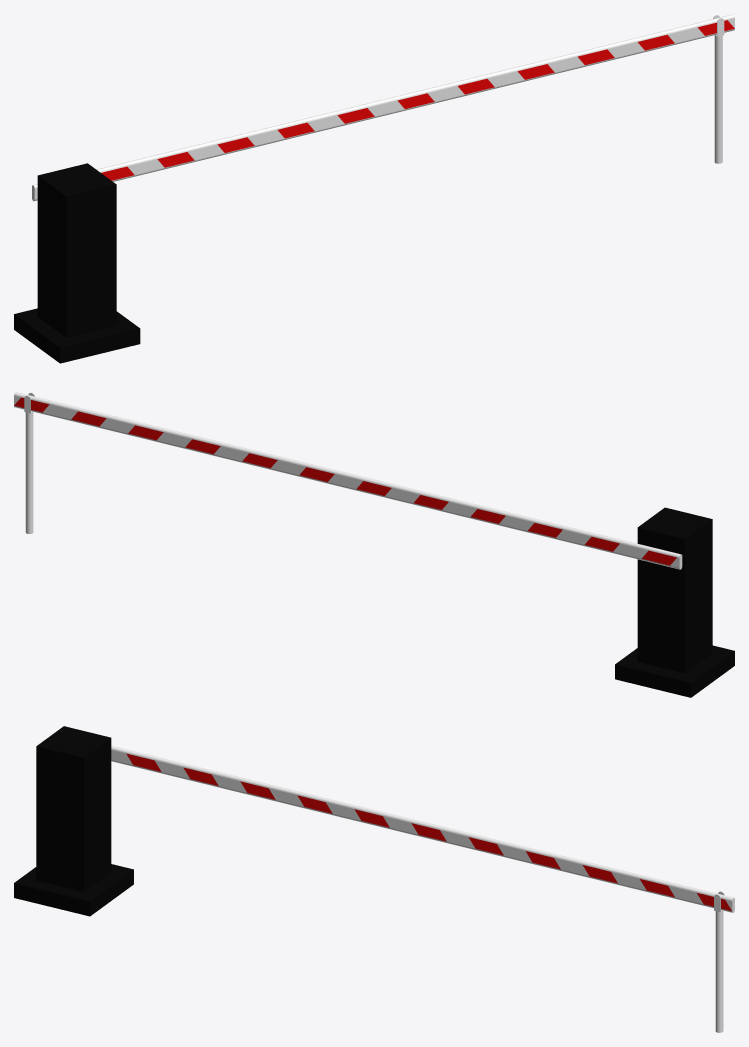
Rendered from BoomGate.gltf.
3 views of the same model, one above another, from view 1: azimuth 30°, elevation 25°; view 2: azimuth 150°, elevation 25°; view 3: azimuth 330°, elevation 25° (orthographic). The views are drawn at different scales.
Visible parts, largest first — view 1: node1; view 2: node1; view 3: node1.
Boxes of the visible parts, box(x1,y1,x2,y2) form: node1: box(14, 14, 734, 363); node1: box(14, 392, 734, 697); node1: box(14, 726, 734, 1032).
Size of the model in its own units: 7.15 by 1.5 by 0.8.
